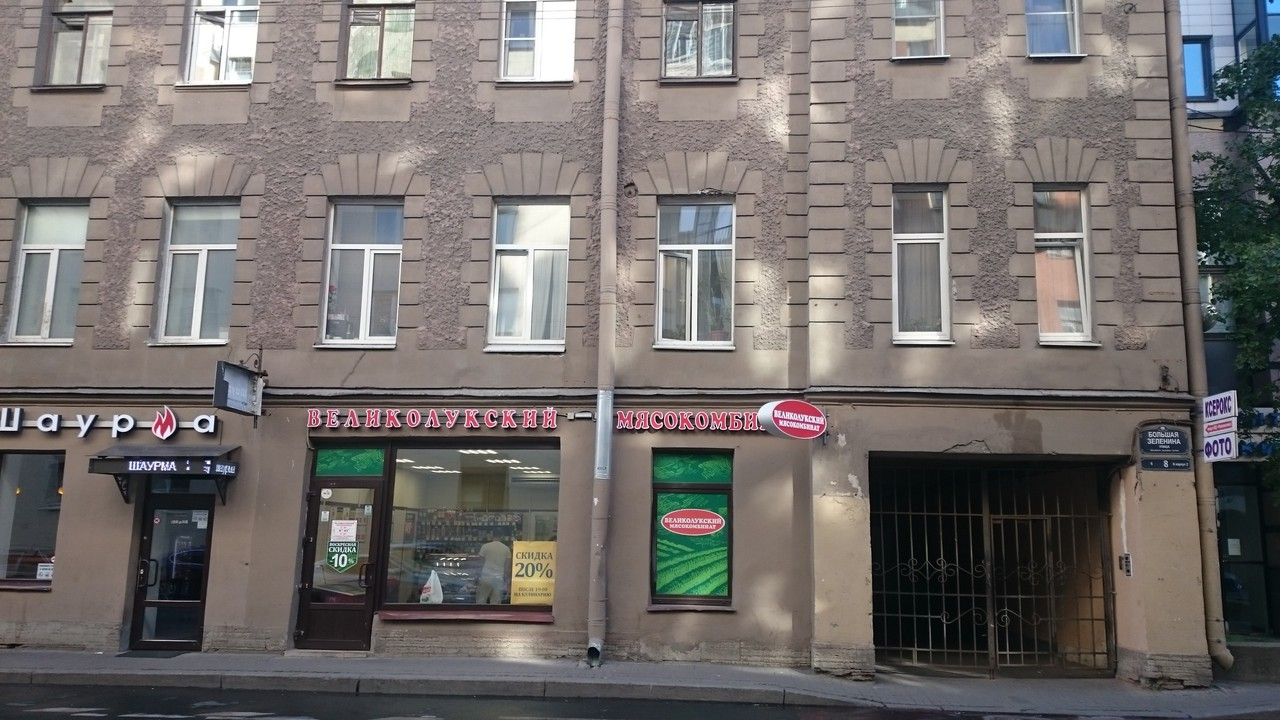arch: (875, 453, 1127, 685)
cantilever: (1188, 387, 1241, 463), (759, 401, 837, 450)
door: (296, 478, 386, 648), (125, 499, 212, 653)
signboard: (305, 409, 761, 433), (1, 403, 217, 437)
window: (384, 438, 562, 607), (152, 198, 241, 344), (486, 199, 569, 350), (654, 447, 732, 606), (657, 193, 735, 348), (321, 199, 402, 347), (5, 197, 87, 339), (891, 187, 952, 347), (1035, 185, 1095, 346), (1, 451, 63, 587)
